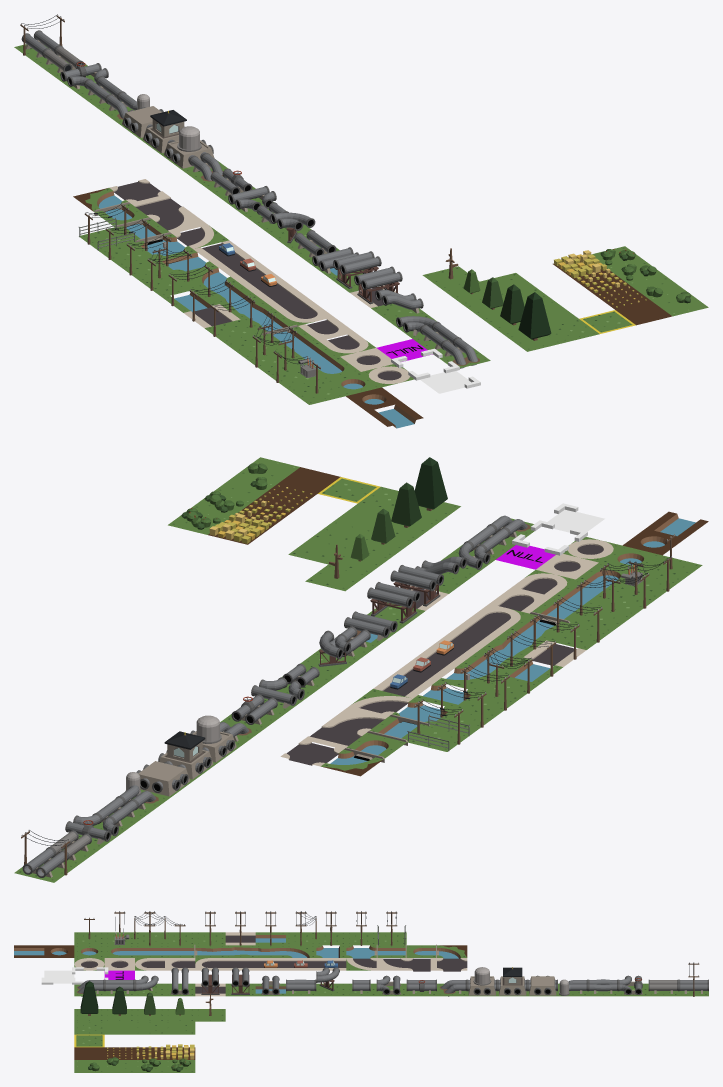
Rendered from NewTiles.fbx.
3 views of the same model, one above another, from view 1: azimuth 30°, elevation 25°; view 2: azimuth 150°, elevation 25°; view 3: azimuth 270°, elevation 25° (orthographic). The views are drawn at different scales.
Parts seen in each view (by area): view 1: tree, pipe_intersection, wire_straight3, pipe_road, pipe_intersection1, wire_junction, pipe_ramp, wire_intersection, pipe_straight2, pipe_bend1, tree1, wire_straight1 (+61 smaller); view 2: pipe_straight2, tree, pipe_intersection1, wire_straight3, wire_pipeline, wire_intersection, tree1, pipe_bend1, pipe_road, pipe_intersection2, wire_junction, pipe_straight3 (+65 smaller); view 3: pipe_intersection1, tree, pipe_intersection, pipe_bend1, pipe_straight2, pipe_road, wire_intersection, pipe_ramp, tree1, pipe_intersection2, wire_junction, wire_pipeline (+68 smaller).
Boxes of the visible parts, x1=… form: tree: x1=506, y1=292, x2=562, y2=351; pipe_intersection: x1=161, y1=126, x2=217, y2=169; wire_straight3: x1=78, y1=203, x2=135, y2=251; pipe_road: x1=350, y1=266, x2=402, y2=307; pipe_intersection1: x1=140, y1=110, x2=186, y2=154; wire_junction: x1=141, y1=247, x2=198, y2=297; pipe_ramp: x1=371, y1=290, x2=427, y2=323; wire_intersection: x1=246, y1=324, x2=301, y2=374; pipe_straight2: x1=329, y1=251, x2=381, y2=292; pipe_bend1: x1=266, y1=212, x2=315, y2=246; tree1: x1=485, y1=284, x2=524, y2=336; wire_straight1: x1=99, y1=219, x2=155, y2=266; pipe_straight2: x1=367, y1=582, x2=424, y2=627; tree: x1=414, y1=457, x2=460, y2=522; pipe_intersection1: x1=158, y1=731, x2=215, y2=780; wire_straight3: x1=407, y1=699, x2=470, y2=751; wire_pipeline: x1=14, y1=830, x2=76, y2=882; wire_intersection: x1=593, y1=560, x2=655, y2=615; tree1: x1=391, y1=482, x2=437, y2=540; pipe_bend1: x1=300, y1=630, x2=355, y2=678; pipe_road: x1=390, y1=565, x2=448, y2=610; pipe_intersection2: x1=136, y1=761, x2=192, y2=797; wire_junction: x1=477, y1=648, x2=539, y2=700; pipe_straight3: x1=223, y1=694, x2=285, y2=729; pipe_intersection1: x1=497, y1=967, x2=527, y2=996; tree: x1=74, y1=981, x2=104, y2=1021; pipe_intersection: x1=467, y1=967, x2=497, y2=996; pipe_bend1: x1=316, y1=967, x2=346, y2=996; pipe_straight2: x1=225, y1=967, x2=255, y2=996; pipe_road: x1=195, y1=967, x2=225, y2=996; wire_intersection: x1=134, y1=911, x2=165, y2=945; pipe_ramp: x1=165, y1=967, x2=195, y2=996; tree1: x1=104, y1=986, x2=134, y2=1021; pipe_intersection2: x1=527, y1=975, x2=557, y2=996; wire_junction: x1=286, y1=911, x2=316, y2=945; wire_pipeline: x1=678, y1=962, x2=708, y2=996.
Bounding box in the file's own units: 1103 × 142 × 2300.
